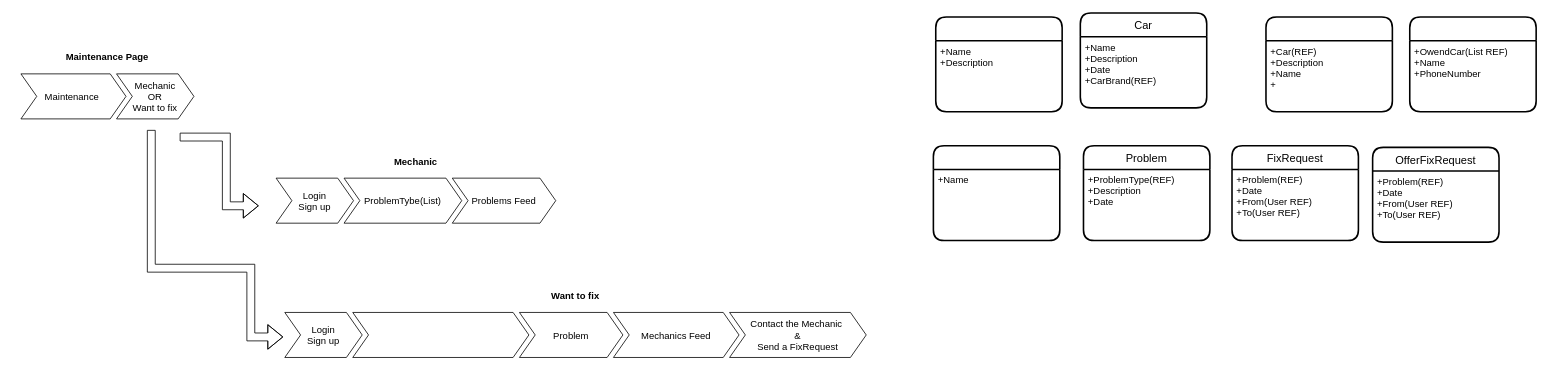
Some shapes in this 1549 by 371 pixel diagram are drawn without their labels. Each missing label, with the box of its shape:
Adding or select an OwnedCar: (352, 312, 529, 357)
CarBrand: (935, 16, 1063, 112)
OwendCar: (1265, 16, 1393, 112)
ProblemType: (932, 145, 1060, 241)
User: (1409, 16, 1537, 112)
